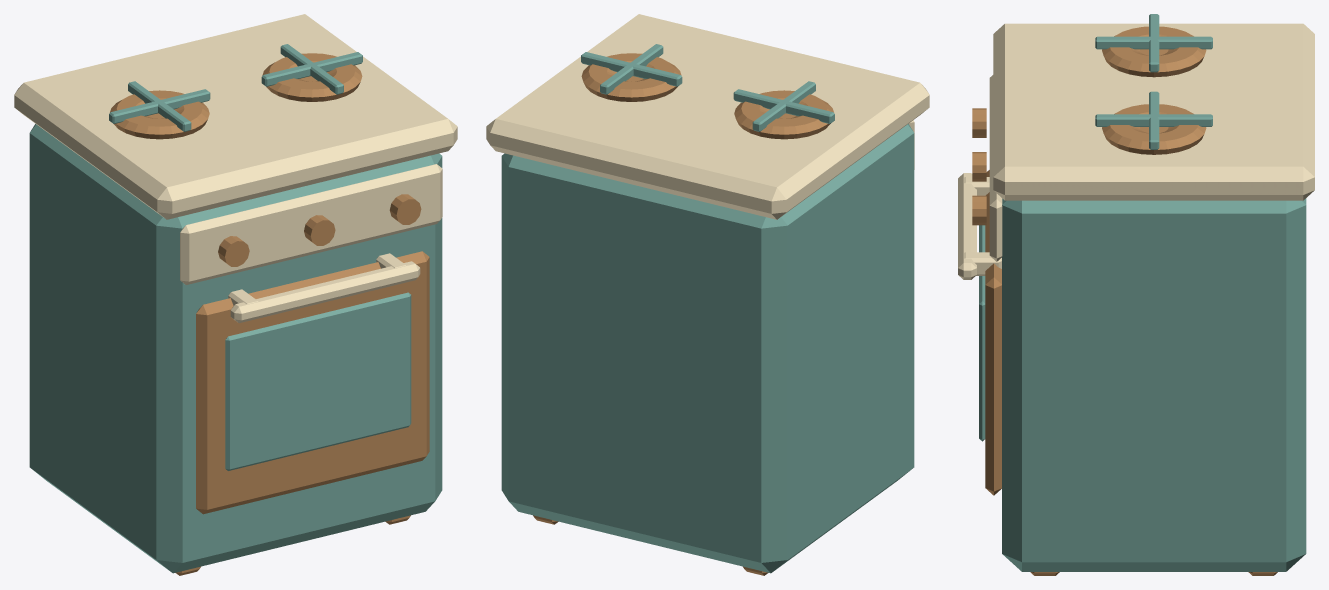
3 renders of one model, left to right at view 1: azimuth 30°, elevation 25°; view 2: azimuth 150°, elevation 25°; view 3: azimuth 270°, elevation 25°, orthographic. The views are drawn at different scales.
Parts seen in each view (by area): view 1: kitchen-stove-01; view 2: kitchen-stove-01; view 3: kitchen-stove-01.
Part boxes in pixels (bbox=[...]): kitchen-stove-01: bbox=[14, 14, 457, 575]; kitchen-stove-01: bbox=[486, 14, 929, 575]; kitchen-stove-01: bbox=[958, 14, 1314, 575].
Bounding box in the file's own units: 0.63 × 0.8475 × 0.6215.
